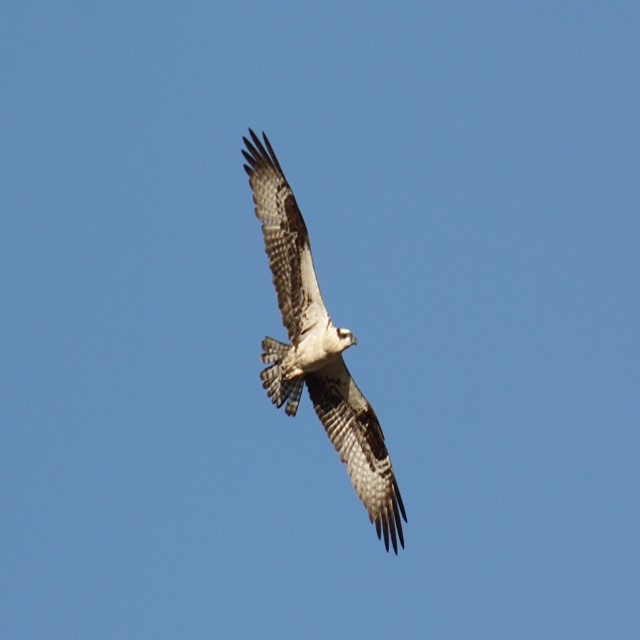Eagle: (241, 127, 408, 557)
